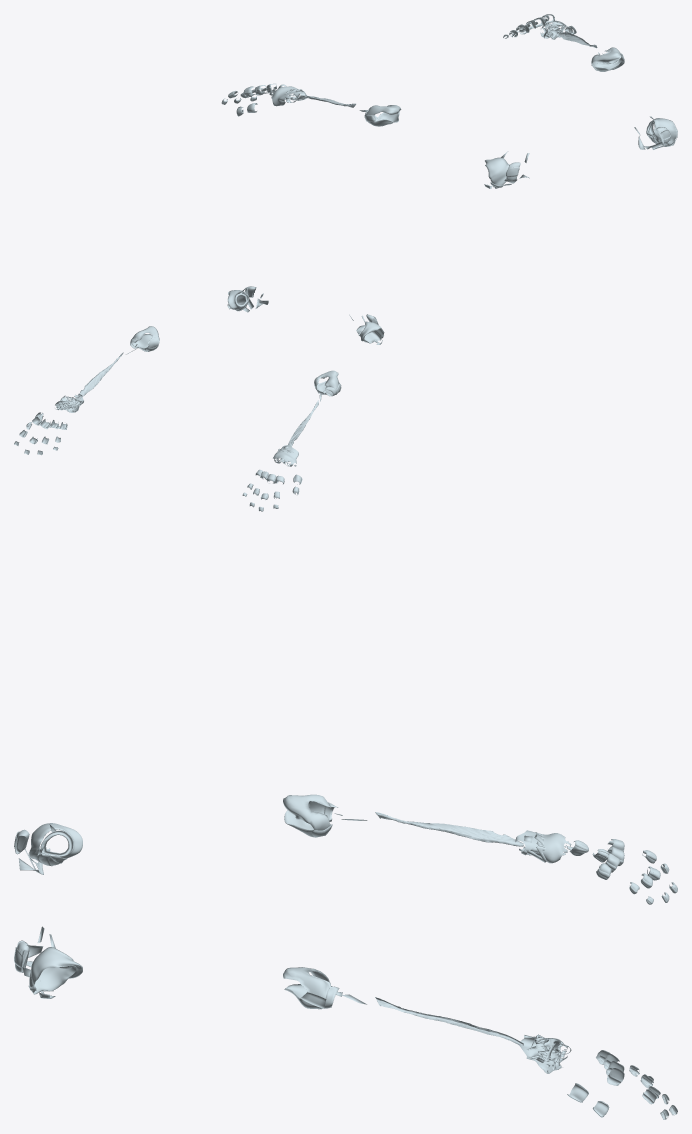
Rendered from upperlimb__joints.131cedf8cb.glb.
3 renders of one model, top to bottom at view 1: azimuth 30°, elevation 25°; view 2: azimuth 150°, elevation 25°; view 3: azimuth 270°, elevation 25°, orthographic. The views are drawn at different scales.
Parts seen in each view (by area): view 1: Articular capsule of elbow joint.l, Articular capsule of elbow joint.r, Articular capsule of glenohumeral joint.r, Articular capsule of glenohumeral joint.l, Articular capsule of radiocarpal joint.r; view 2: Articular capsule of elbow joint.l, Articular capsule of elbow joint.r, Articular capsule of glenohumeral joint.r; view 3: Articular capsule of glenohumeral joint.l, Articular capsule of elbow joint.r, Articular capsule of elbow joint.l, Interosseous membrane of forearm.r, Articular capsule of radiocarpal joint.r, Articular capsule of glenohumeral joint.r.
Boxes of the visible parts, x1,y1,x2,y2 form: Articular capsule of elbow joint.l: [591, 47, 624, 71]; Articular capsule of elbow joint.r: [366, 105, 401, 126]; Articular capsule of glenohumeral joint.r: [485, 157, 509, 188]; Articular capsule of glenohumeral joint.l: [647, 118, 677, 145]; Articular capsule of radiocarpal joint.r: [271, 86, 306, 106]; Articular capsule of elbow joint.l: [131, 326, 159, 350]; Articular capsule of elbow joint.r: [314, 370, 341, 395]; Articular capsule of glenohumeral joint.r: [358, 321, 384, 343]; Articular capsule of glenohumeral joint.l: [29, 947, 82, 994]; Articular capsule of elbow joint.r: [283, 794, 331, 837]; Articular capsule of elbow joint.l: [283, 967, 331, 1009]; Interosseous membrane of forearm.r: [375, 812, 523, 846]; Articular capsule of radiocarpal joint.r: [515, 830, 571, 863]; Articular capsule of glenohumeral joint.r: [29, 823, 82, 865].
Size of the model in its own units: 1292 by 145 by 696.
